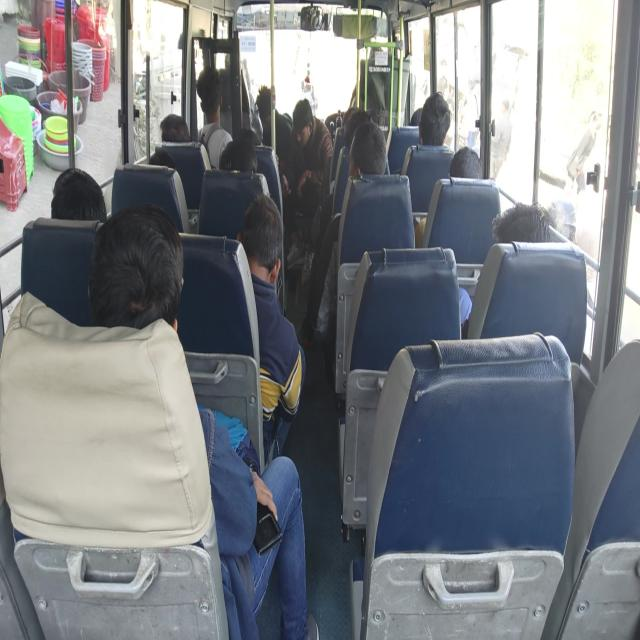person: (101, 218, 166, 316), (502, 200, 562, 252), (55, 171, 105, 223), (247, 192, 281, 265), (193, 56, 225, 120), (220, 140, 260, 182), (446, 147, 482, 189), (357, 128, 389, 174), (342, 108, 374, 148), (364, 28, 394, 70), (427, 96, 451, 143), (140, 143, 172, 178), (226, 37, 252, 80), (159, 111, 187, 144), (258, 84, 277, 121), (296, 100, 313, 140), (233, 119, 256, 143)
